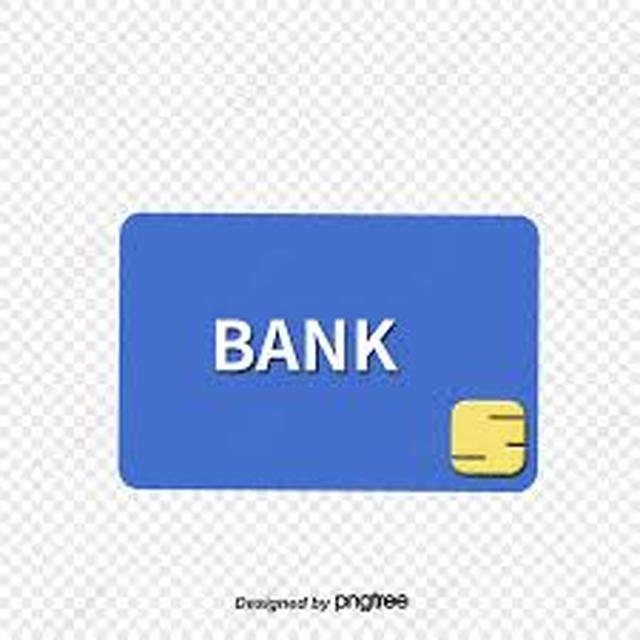card: (105, 203, 557, 522)
